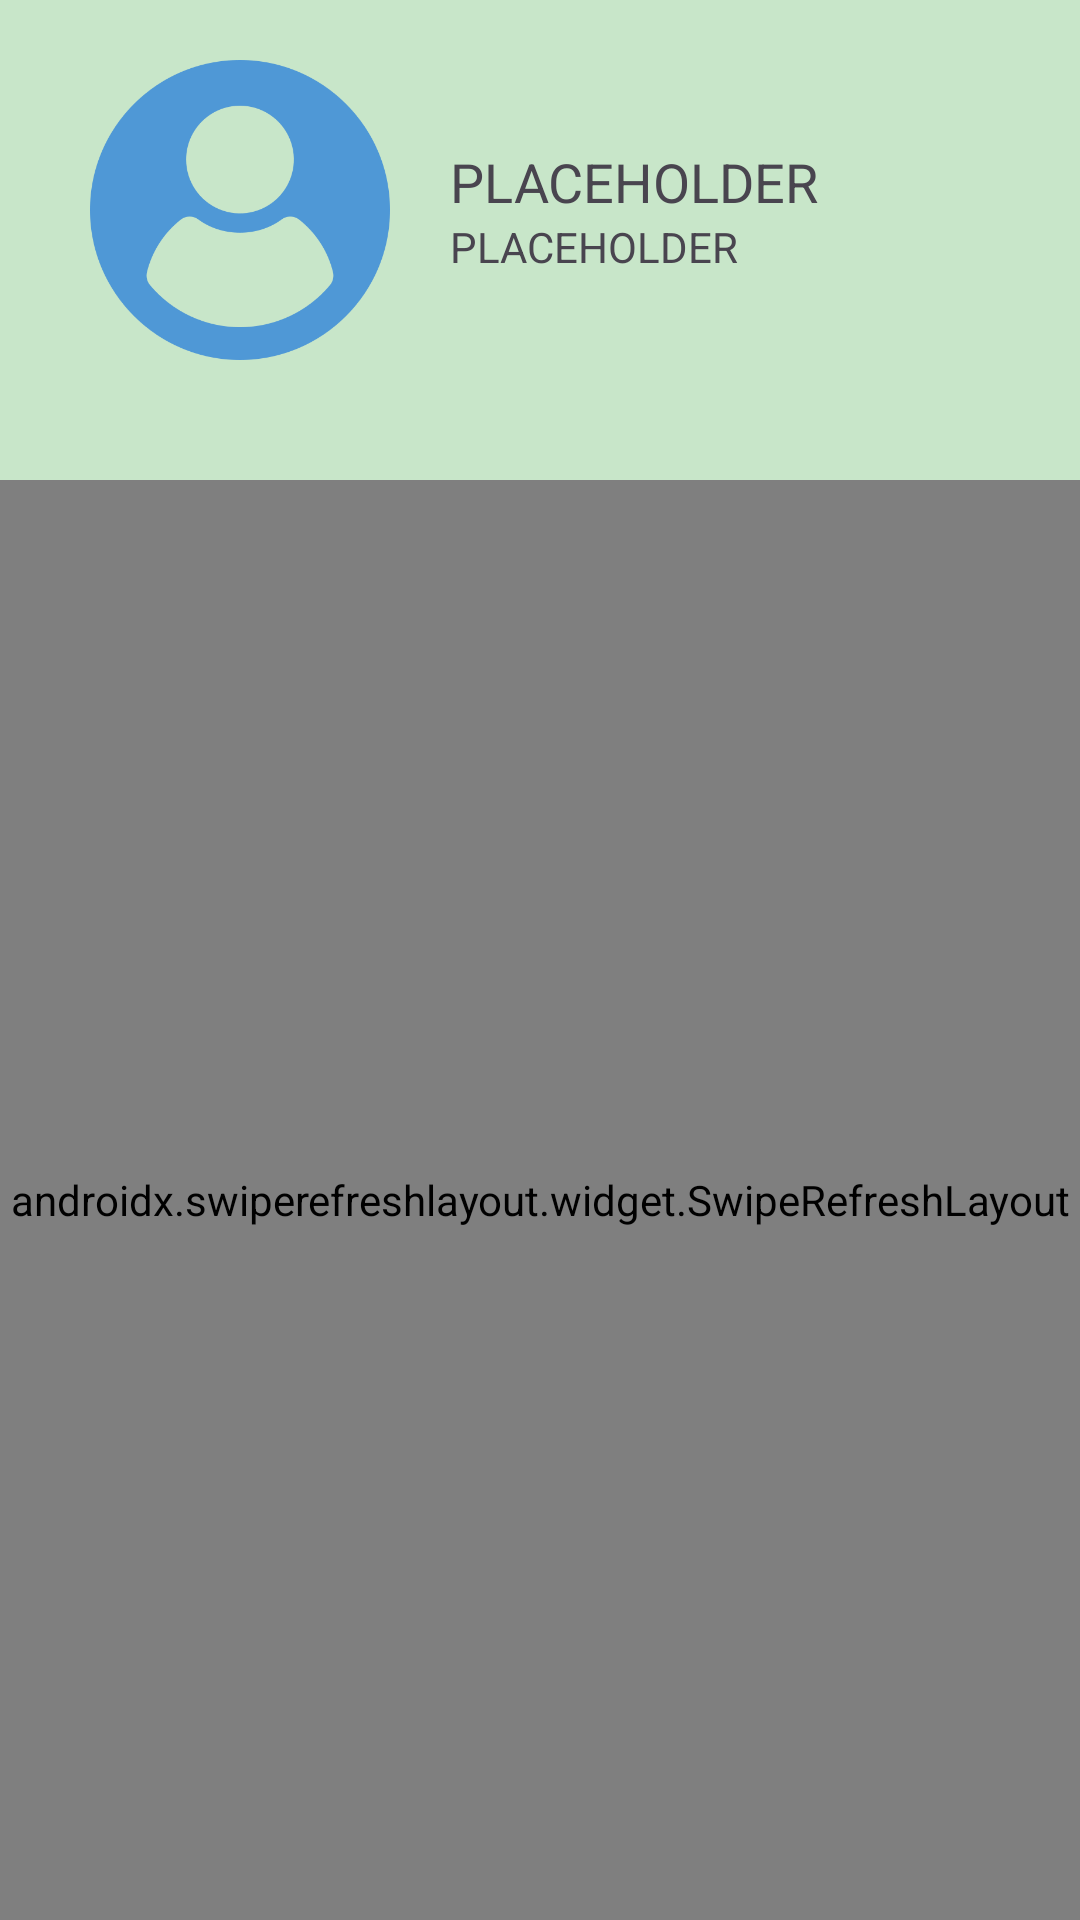

Named icons in this screenshot (1080*1920) and their centers, [x,y]:
user image: [240,210]
